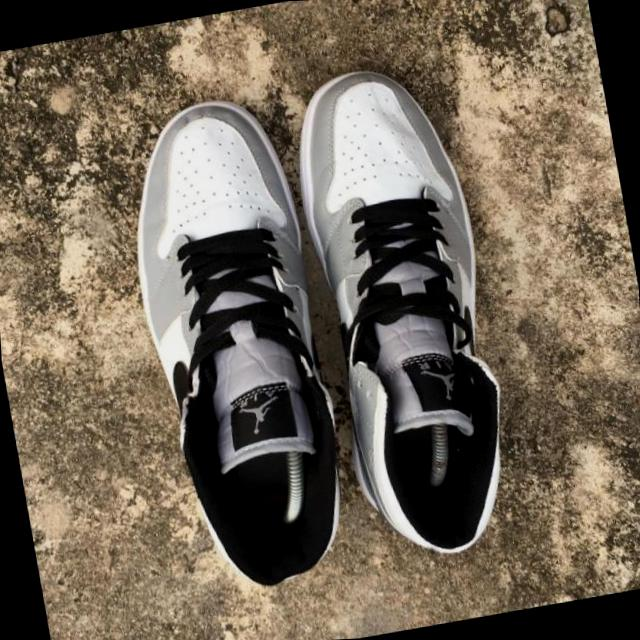nike_fake_jordan: (272, 47, 534, 574), (107, 77, 370, 598)
